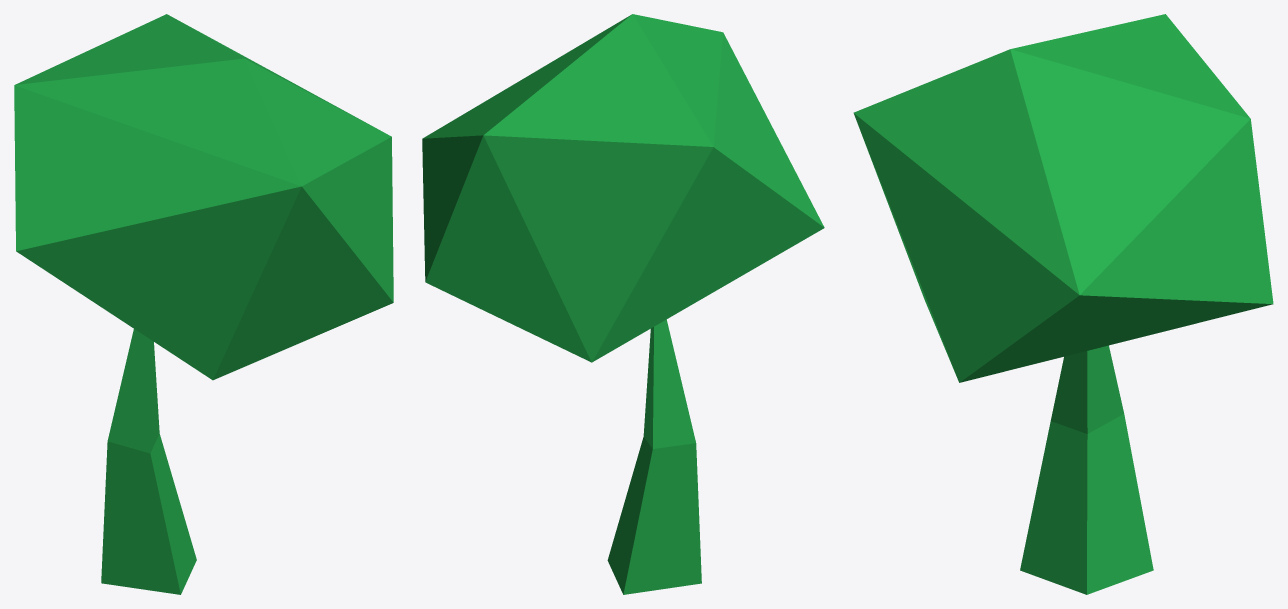
The model's file is arbolito3.fbx.
3 views of the same model, side by side, from view 1: azimuth 30°, elevation 25°; view 2: azimuth 150°, elevation 25°; view 3: azimuth 270°, elevation 25° (orthographic). The views are drawn at different scales.
Visible parts, largest first — view 1: Tronco; view 2: Tronco; view 3: Tronco.
Boxes of the visible parts, x1,y1,x2,y2 form: Tronco: (14,14,393,594); Tronco: (422,14,824,594); Tronco: (853,14,1273,594).
Size of the model in its own units: 591 by 756 by 522.
